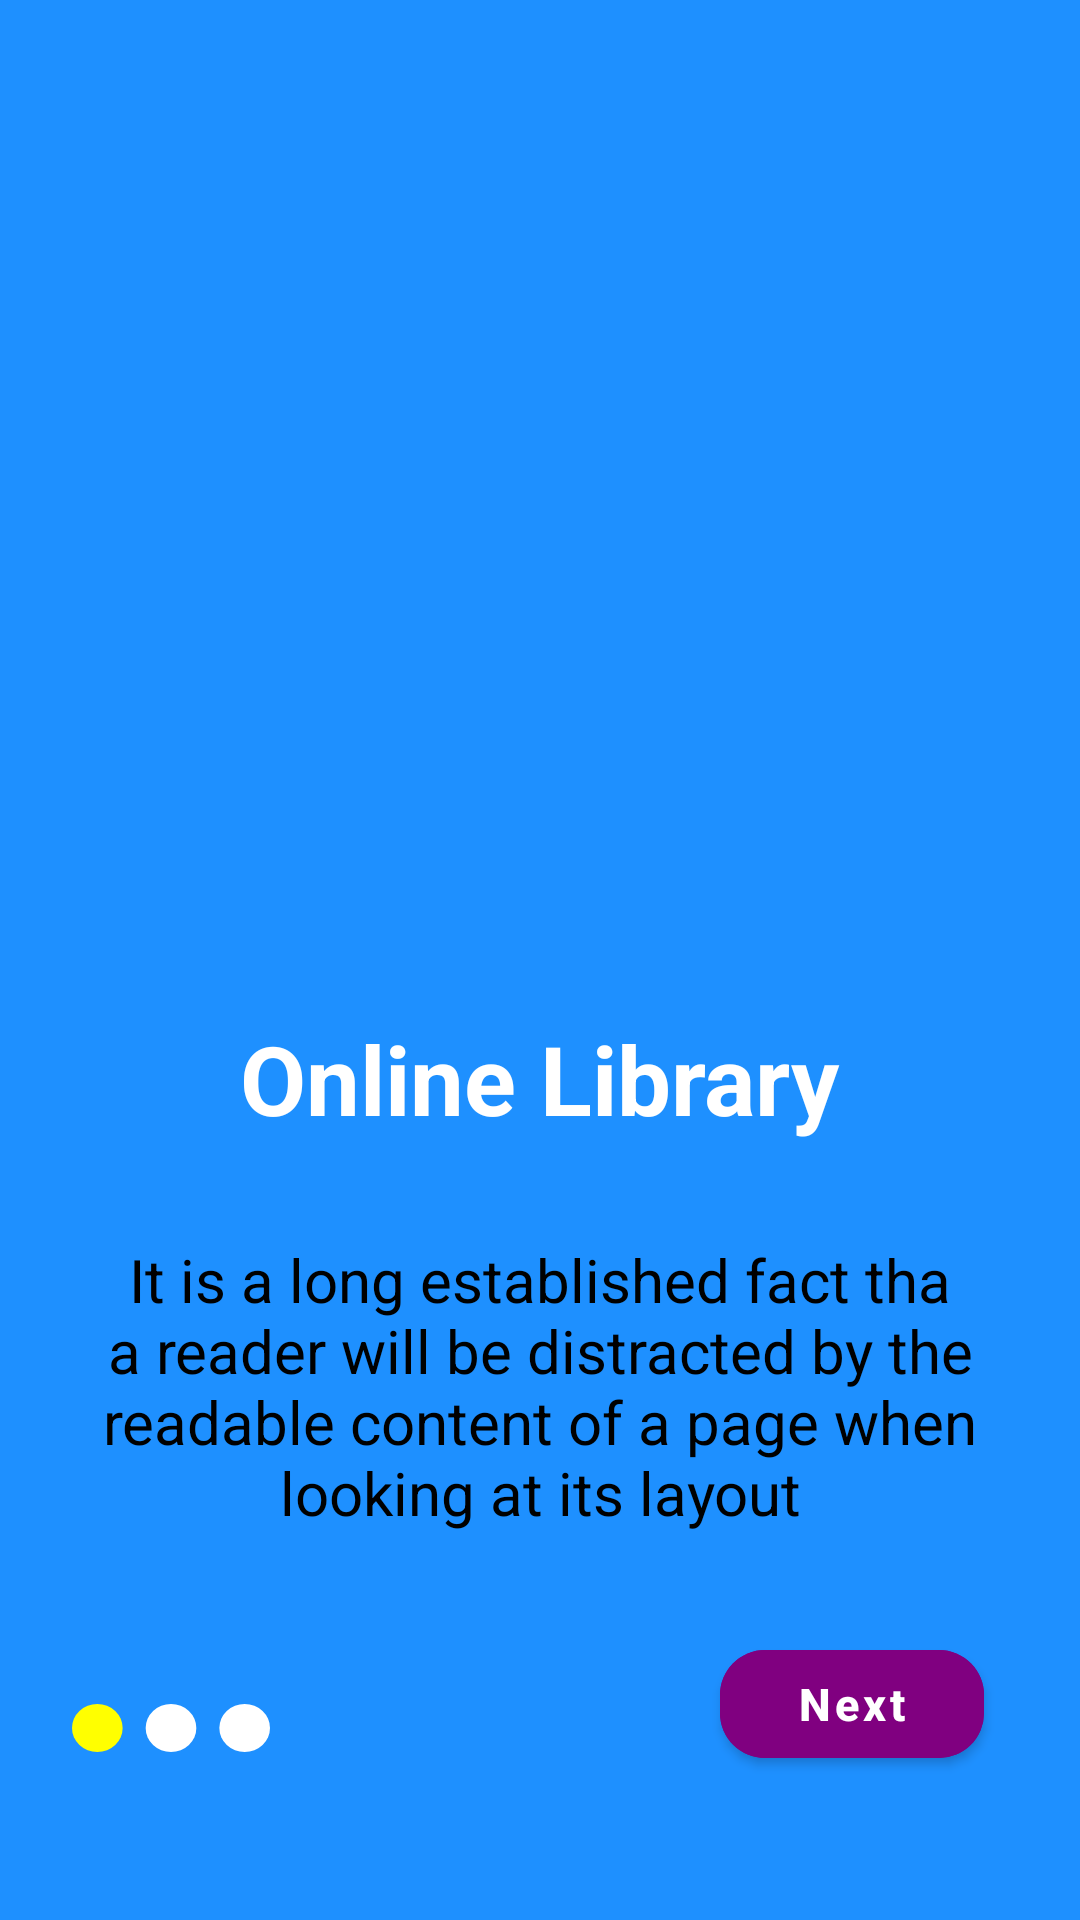

Icon click points for this 1080px x 1920px phone screenshot, format (x,y):
dot: (171,1728)
